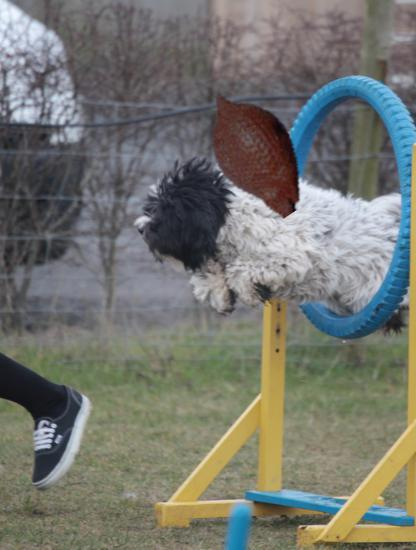Salak: (184, 80, 328, 224)
